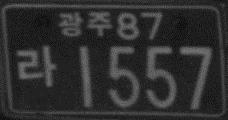1: (77, 43, 94, 110)
5: (143, 43, 177, 108), (107, 43, 140, 107)
7: (177, 44, 214, 112), (140, 11, 164, 39)
8: (115, 11, 140, 41)
광주_O: (57, 9, 114, 38)
라: (17, 44, 56, 89)
